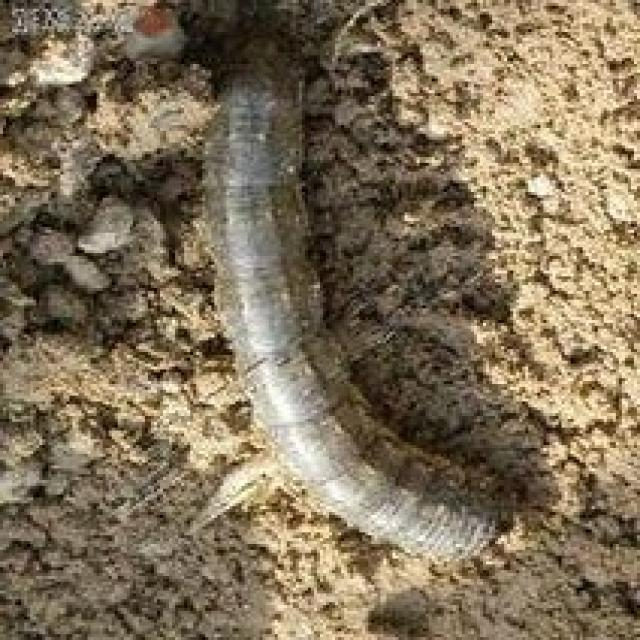black cutworm: (176, 40, 520, 561)
